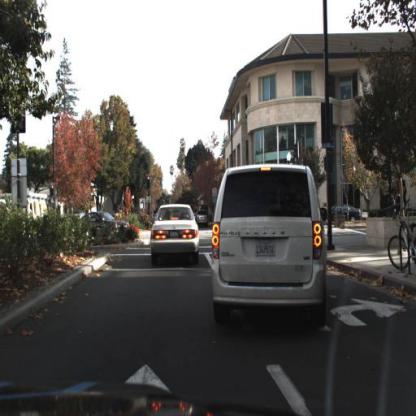car: (209, 160, 332, 333), (150, 203, 202, 269), (74, 211, 132, 244), (327, 202, 362, 227), (323, 202, 362, 224)
pedestrian: (396, 170, 409, 224)
trafficLight-Red: (147, 174, 151, 187)
